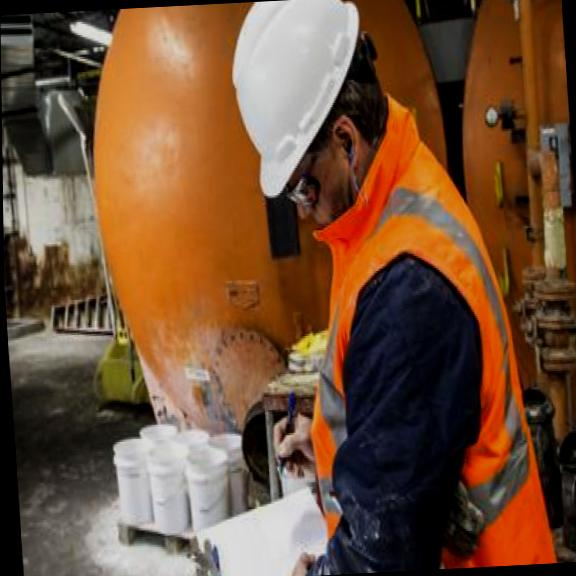safety_vest: (303, 135, 557, 574)
